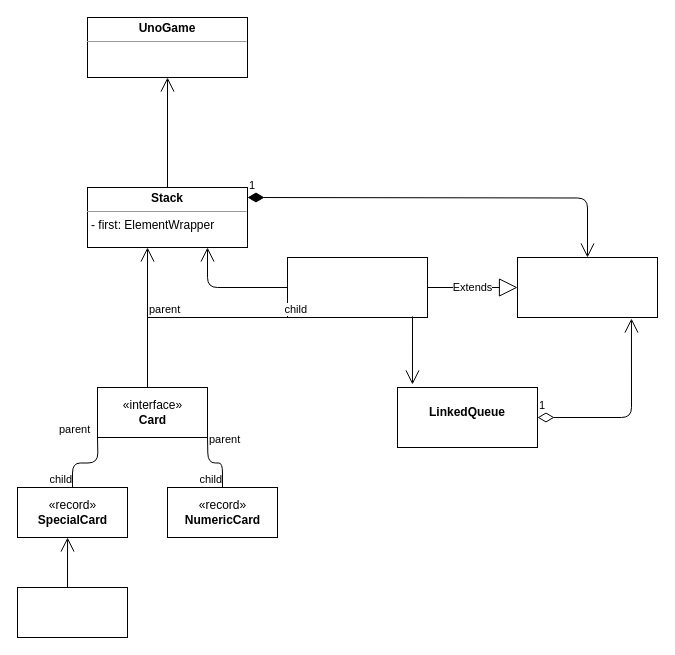
The diagram is 675 pixels wide and 655 high, and some of its shapes have lost their labels. Here are the shapes that lost their labels. From the top down, the centre of each, then its label:
At (x=357, y=287): "ElementWrapper".
At (x=587, y=287): "EndElement".
At (x=72, y=612): "«enum» SpecialCardType".
